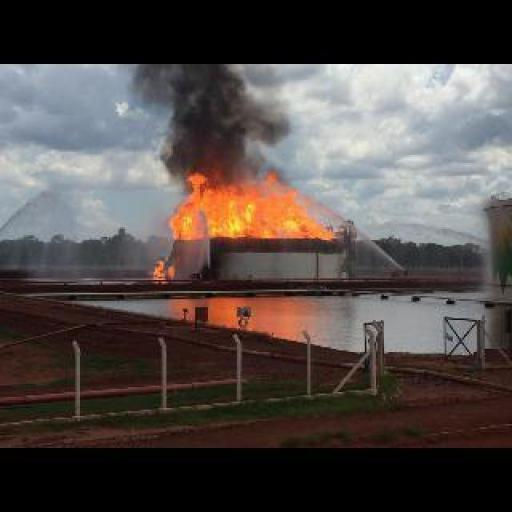smoke: (140, 68, 294, 186), (174, 176, 333, 238), (154, 262, 176, 280)
